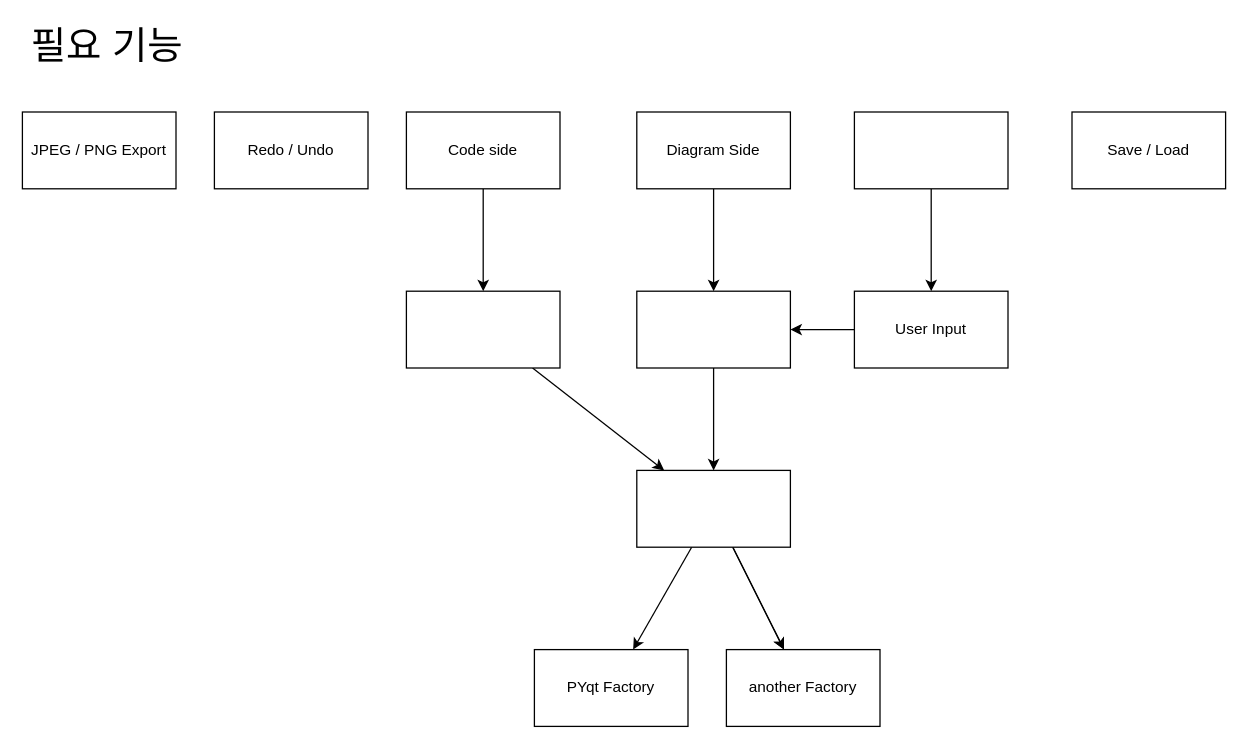
This 1248x749 diagram has some shape labels left out. The shapes that lost their labels are listed below. From the top down, each one's centre as x and y in pixels, then its label:
At pixel 930 150: "GUI Modify".
At pixel 482 329: "Code Parser (Based Mermaid)".
At pixel 713 329: "Canvas".
At pixel 713 508: "Canvas Object Factory".
